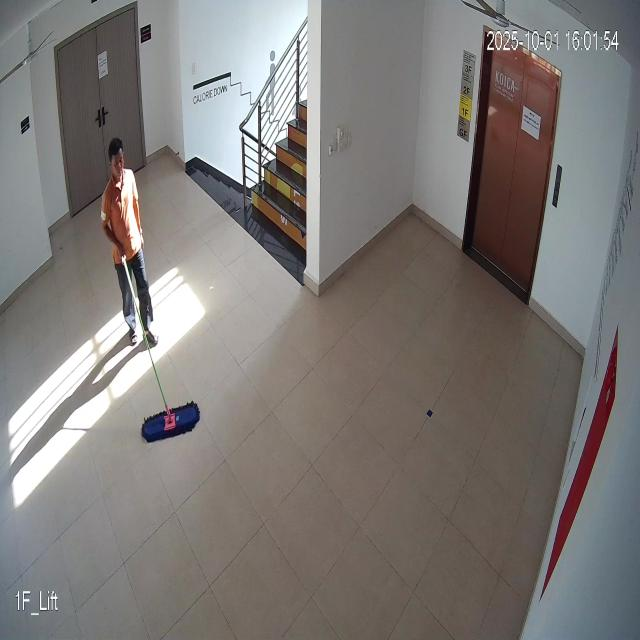face: (108, 138, 128, 185)
